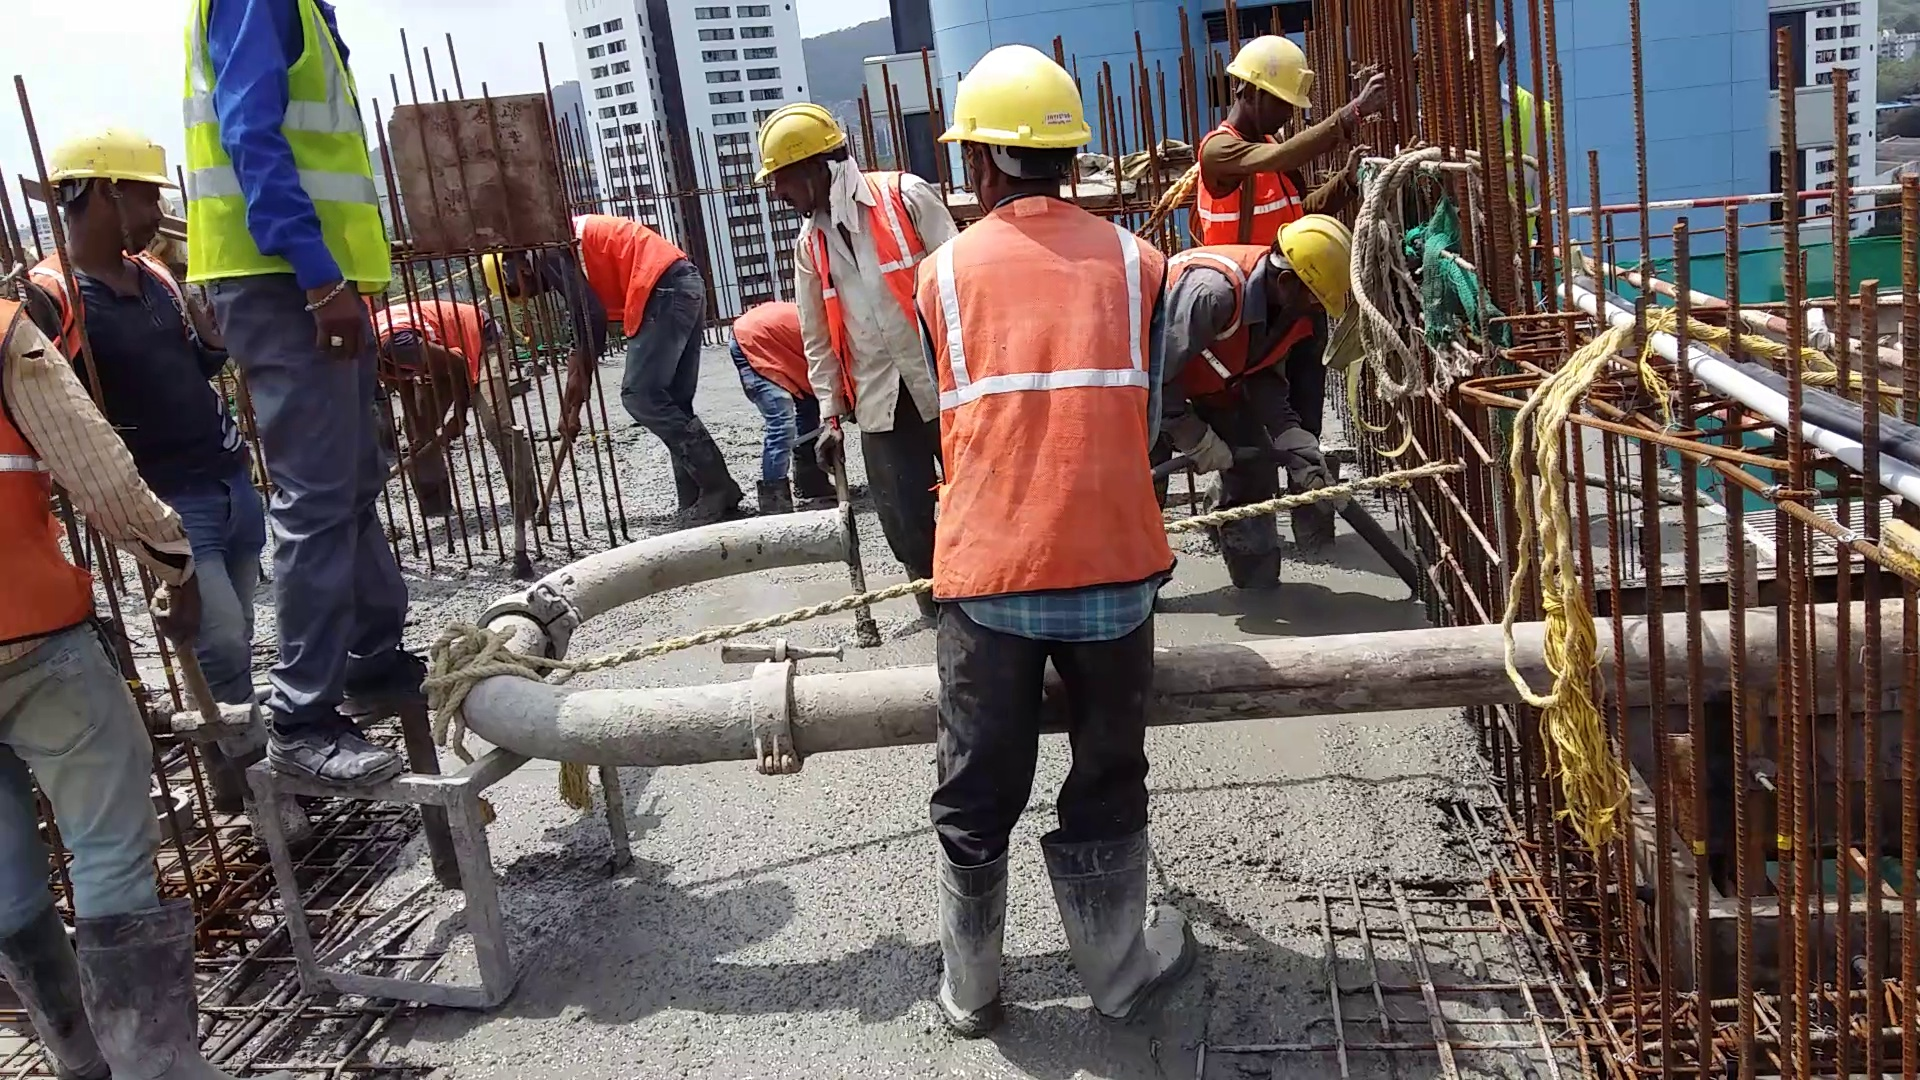NoJacket: (80, 137, 164, 393)
SAFE: (920, 44, 1158, 607), (756, 100, 928, 442), (1164, 219, 1346, 388), (1200, 28, 1312, 237)
